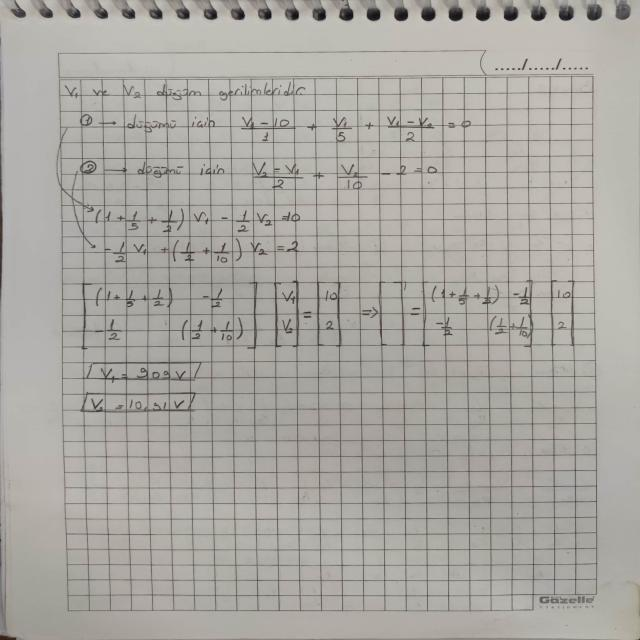math: (79, 279, 345, 350), (373, 278, 579, 348), (86, 205, 306, 264), (238, 110, 475, 144), (79, 361, 198, 412)
text: (58, 82, 310, 97), (128, 158, 227, 178), (119, 114, 219, 129)
